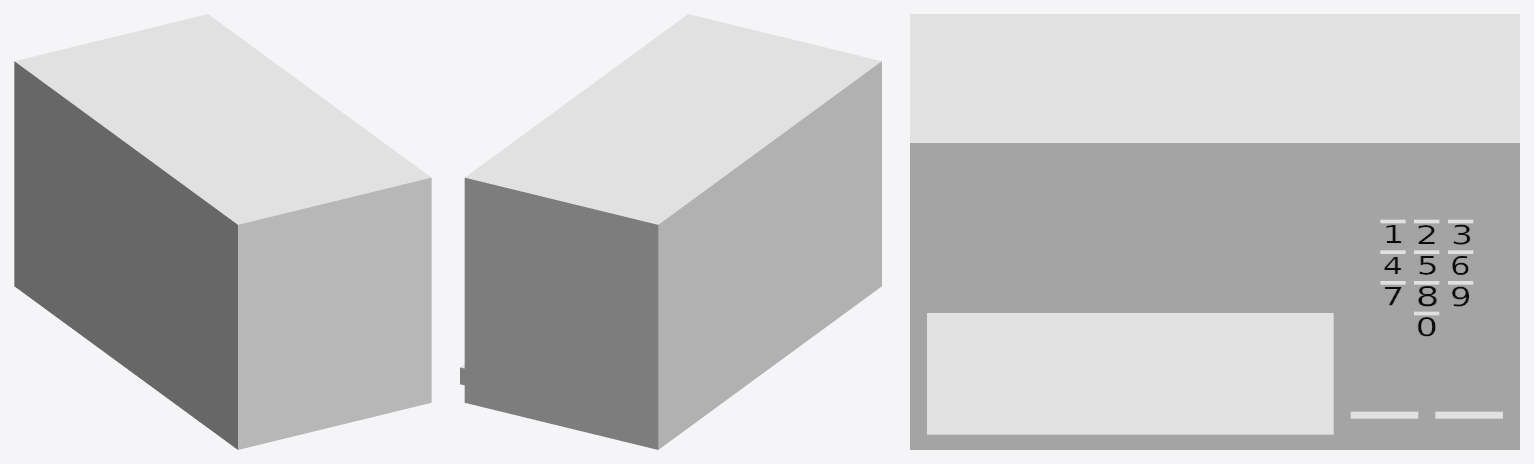
File: Microwave.fbx
3 renders of one model, left to right at view 1: azimuth 30°, elevation 25°; view 2: azimuth 150°, elevation 25°; view 3: azimuth 270°, elevation 25°, orthographic. The views are drawn at different scales.
Visible parts, largest first — view 1: Microwave; view 2: Microwave; view 3: Microwave.
Part boxes in pixels (box(x1,y1,x2,y2)): Microwave: box(14, 14, 431, 449); Microwave: box(460, 14, 881, 449); Microwave: box(910, 14, 1519, 449).
Size of the model in its own units: 9144 by 5080 by 4826.
